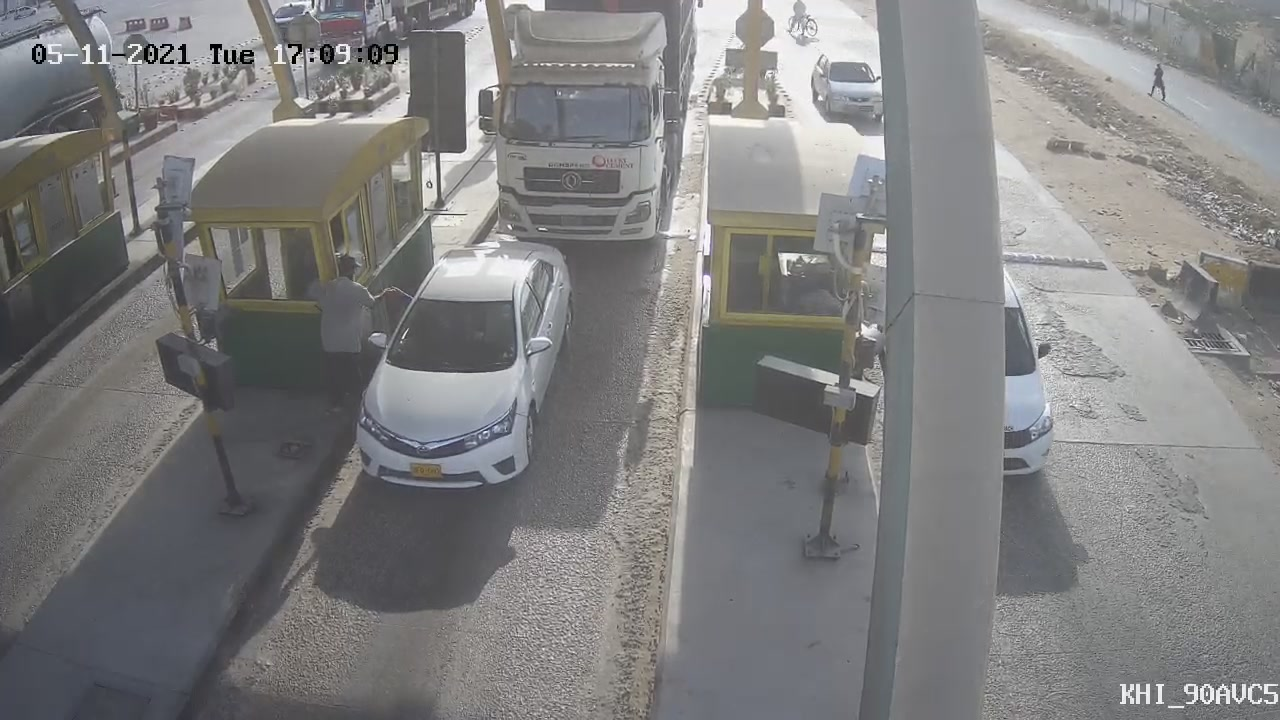F1: (342, 229, 586, 498)
